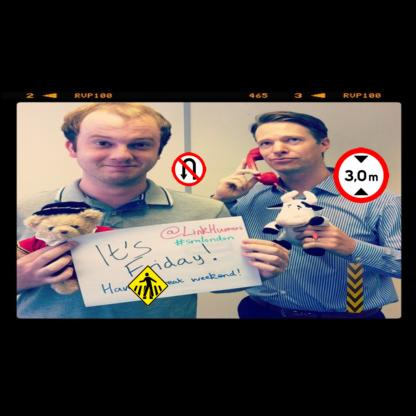A-32b: (127, 265, 168, 307)
O-MP: (347, 263, 363, 313)
R-15: (333, 147, 389, 203)
R-5a: (172, 152, 206, 186)
